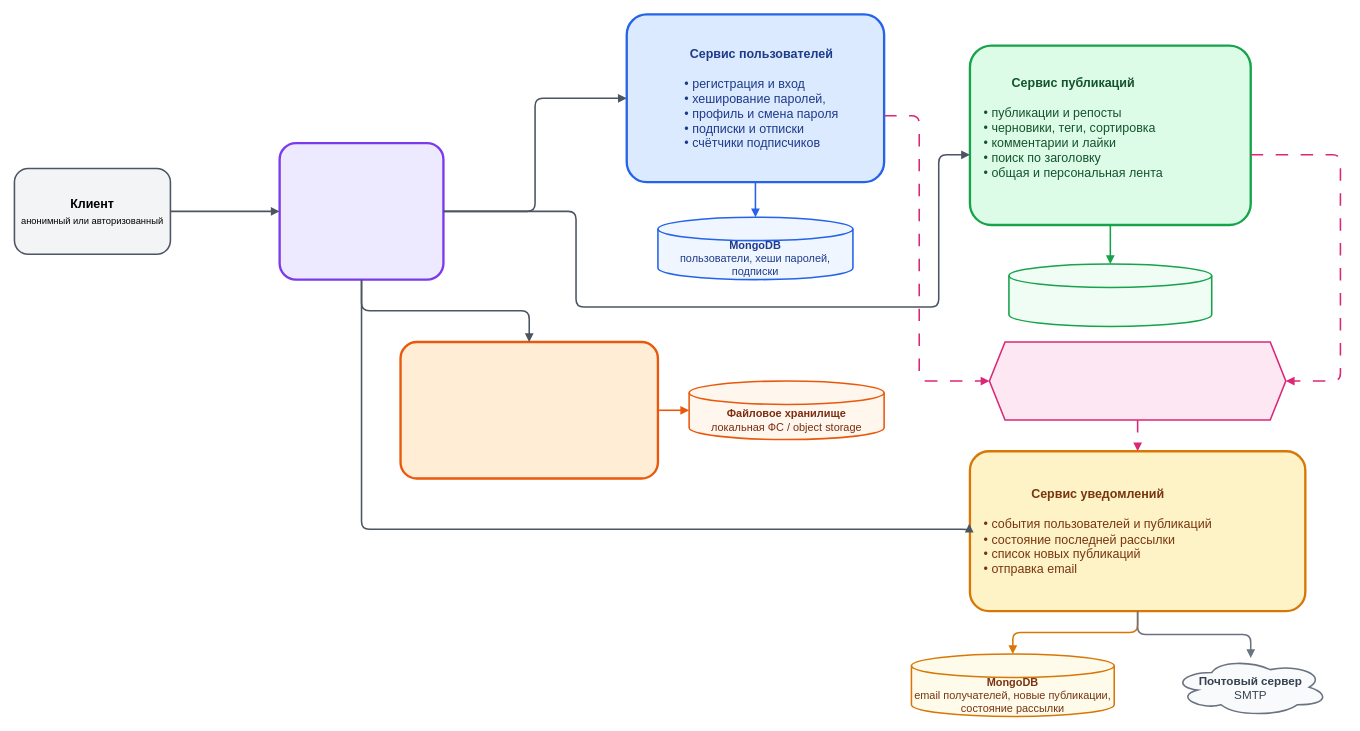
Image size: 1360x731. Some labels were removed from this diagram. Each missing label, with the centre of its shape:
API Gateway • единая точка входа • проверка прав доступа: the point at 361,211
PostgreSQL публикации, теги, комментарии, лайки и репосты: the point at 1110,295
Брокер сообщений: the point at 1137,380
Файловый сервис • загрузка аватаров • фото для публикаций: the point at 529,409
